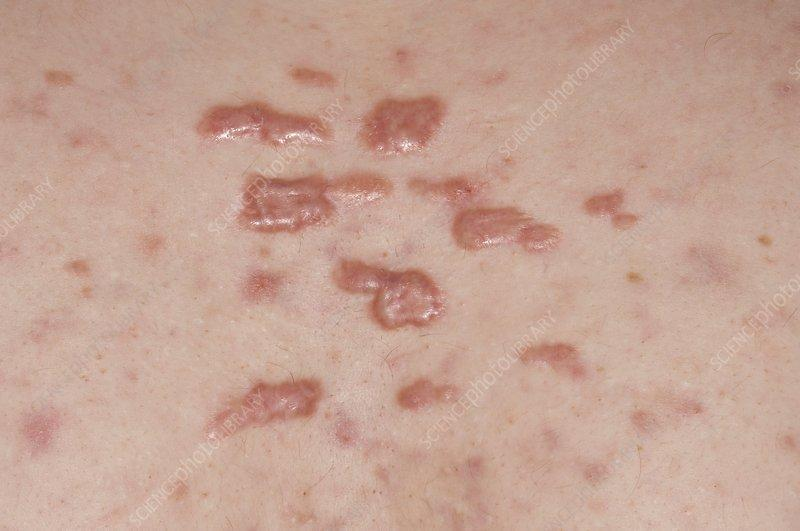keloid: (233, 168, 396, 239), (189, 371, 333, 448), (329, 255, 446, 333), (196, 99, 339, 155), (361, 87, 449, 160), (451, 205, 564, 259)
